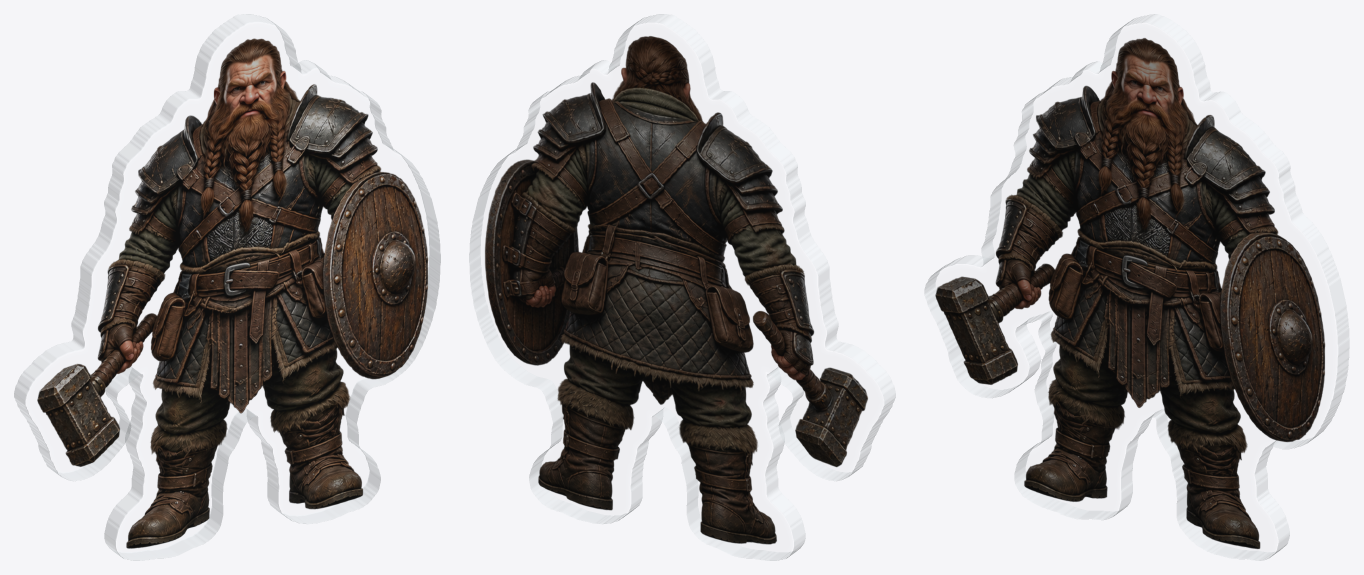
File: brom-hammer-shield.glb
3 renders of one model, left to right at view 1: azimuth 30°, elevation 25°; view 2: azimuth 150°, elevation 25°; view 3: azimuth 330°, elevation 25°, orthographic.
Parts seen in each view (by area): view 1: preview_standee; view 2: preview_standee; view 3: preview_standee.
Part boxes in pixels (bbox=[...]): preview_standee: bbox=[14, 14, 440, 560]; preview_standee: bbox=[469, 14, 895, 560]; preview_standee: bbox=[924, 14, 1349, 560].
Bounding box in the file's own units: 1.21 × 1.43 × 0.06.
Materials: 3 (2 with a texture image).
